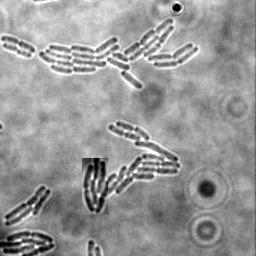Dividing: (1, 34, 37, 52), (3, 41, 33, 57)
Microcolony: (40, 18, 199, 89), (87, 120, 181, 197), (5, 184, 52, 226), (82, 158, 108, 215), (1, 230, 56, 255)
